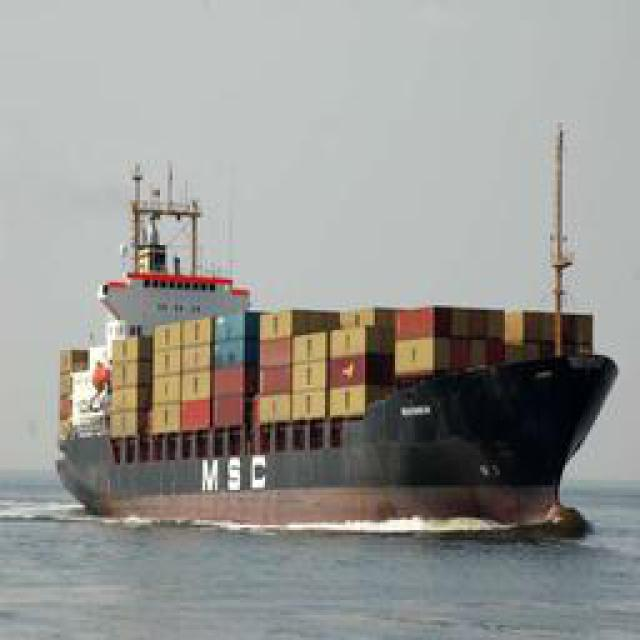Ship: (46, 174, 619, 509)
